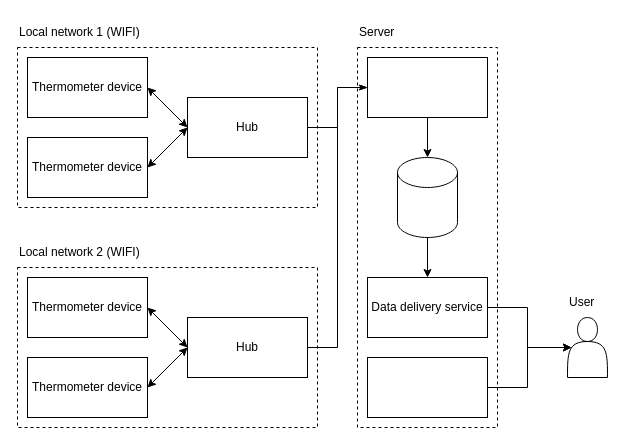
This 625x445 diagram has some shape labels left out. Each missing label, with the box of its shape:
DB: (396, 156, 458, 238)
Inbound data managment service: (366, 56, 488, 118)
Web server with an endpoint: (366, 356, 488, 418)
